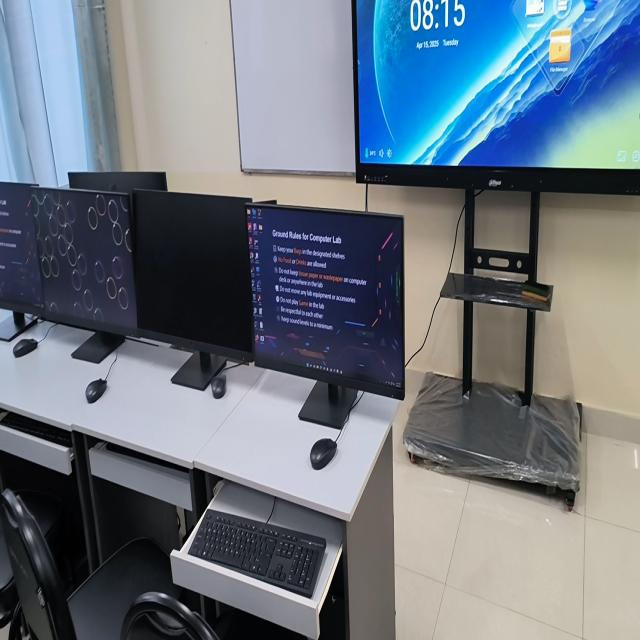Chair: (0, 489, 179, 639), (121, 592, 306, 639), (2, 482, 70, 563), (0, 519, 22, 626)
Cpu: (319, 551, 346, 639)
Digital board: (353, 0, 640, 504)
Keyboard: (188, 510, 326, 596), (0, 412, 71, 448)
Monitor: (246, 203, 405, 429), (133, 190, 253, 390), (31, 188, 137, 363), (0, 182, 43, 341), (68, 172, 167, 193)
Mouse: (310, 439, 337, 470), (85, 379, 107, 403), (13, 338, 38, 357), (210, 375, 226, 399)
